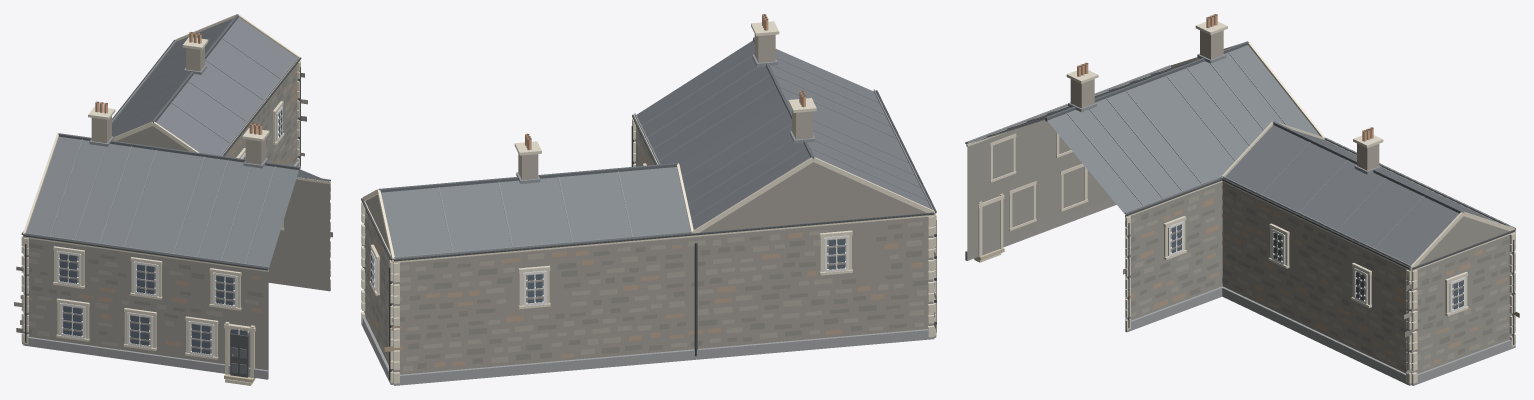
The picture shows the model from 3 angles, left to right: view 1: azimuth 30°, elevation 25°; view 2: azimuth 150°, elevation 25°; view 3: azimuth 270°, elevation 25°; orthographic projection. The views are drawn at different scales.
Visible parts, largest first — view 1: slate, rubble, ss_lt, frame, plinth, slate_lt, rubble_lt, rubble_dk, pipe, lead, chim_stone, slate_dk (+4 smaller); view 2: rubble, slate, rubble_dk, ss_lt, rubble_lt, plinth, slate_lt, pipe, rubble_rust, lead, chim_stone, slate_dk (+1 smaller); view 3: rubble, slate, ss_lt, rubble_dk, plinth, rubble_lt, rubble_rust, slate_lt, lead, pipe, chim_stone, slate_dk (+1 smaller).
Boxes of the visible parts, x1,y1,x2,y2 form: slate: (26,17,328,268); rubble: (24,65,329,370); ss_lt: (21,14,330,385); frame: (56,106,282,356); plinth: (22,161,330,379); slate_lt: (49,38,306,263); rubble_lt: (14,76,330,346); rubble_dk: (16,73,332,335); pipe: (21,39,330,342); lead: (24,39,330,268); chim_stone: (91,47,265,164); slate_dk: (58,14,299,170); rubble: (364,125,933,374); slate: (381,40,930,256); rubble_dk: (362,132,935,368); ss_lt: (361,21,936,383); rubble_lt: (361,126,936,371); plinth: (361,317,936,385); slate_lt: (438,54,926,251); pipe: (361,90,936,380); rubble_rust: (370,154,922,367); lead: (393,54,933,259); chim_stone: (518,34,812,179); slate_dk: (378,37,814,192); rubble: (967,120,1512,373); slate: (971,45,1496,266); ss_lt: (966,21,1515,383); rubble_dk: (1123,189,1509,370); plinth: (965,198,1515,385); rubble_lt: (1125,188,1509,373); rubble_rust: (1126,186,1519,364); slate_lt: (987,52,1475,248); lead: (967,53,1513,267); pipe: (965,65,1515,381); chim_stone: (1070,30,1379,170); slate_dk: (1045,41,1463,213).
Bounding box in the file's own units: 22.1 × 11.14 × 24.97.
